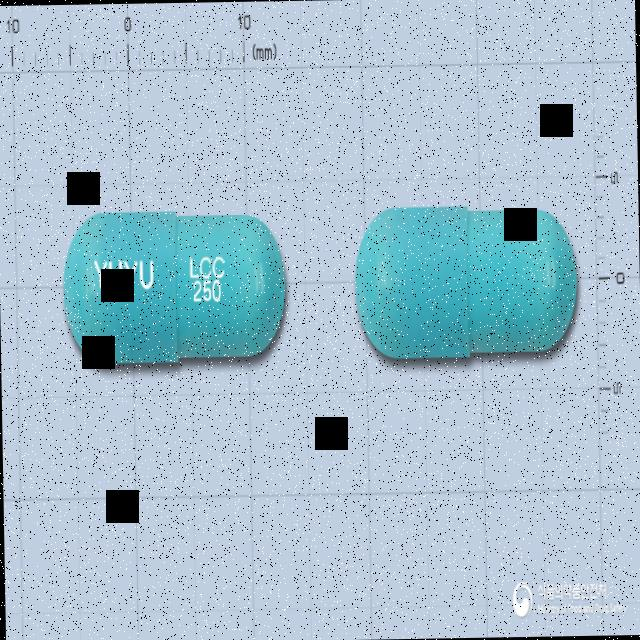Lincocin: (62, 208, 288, 364)
